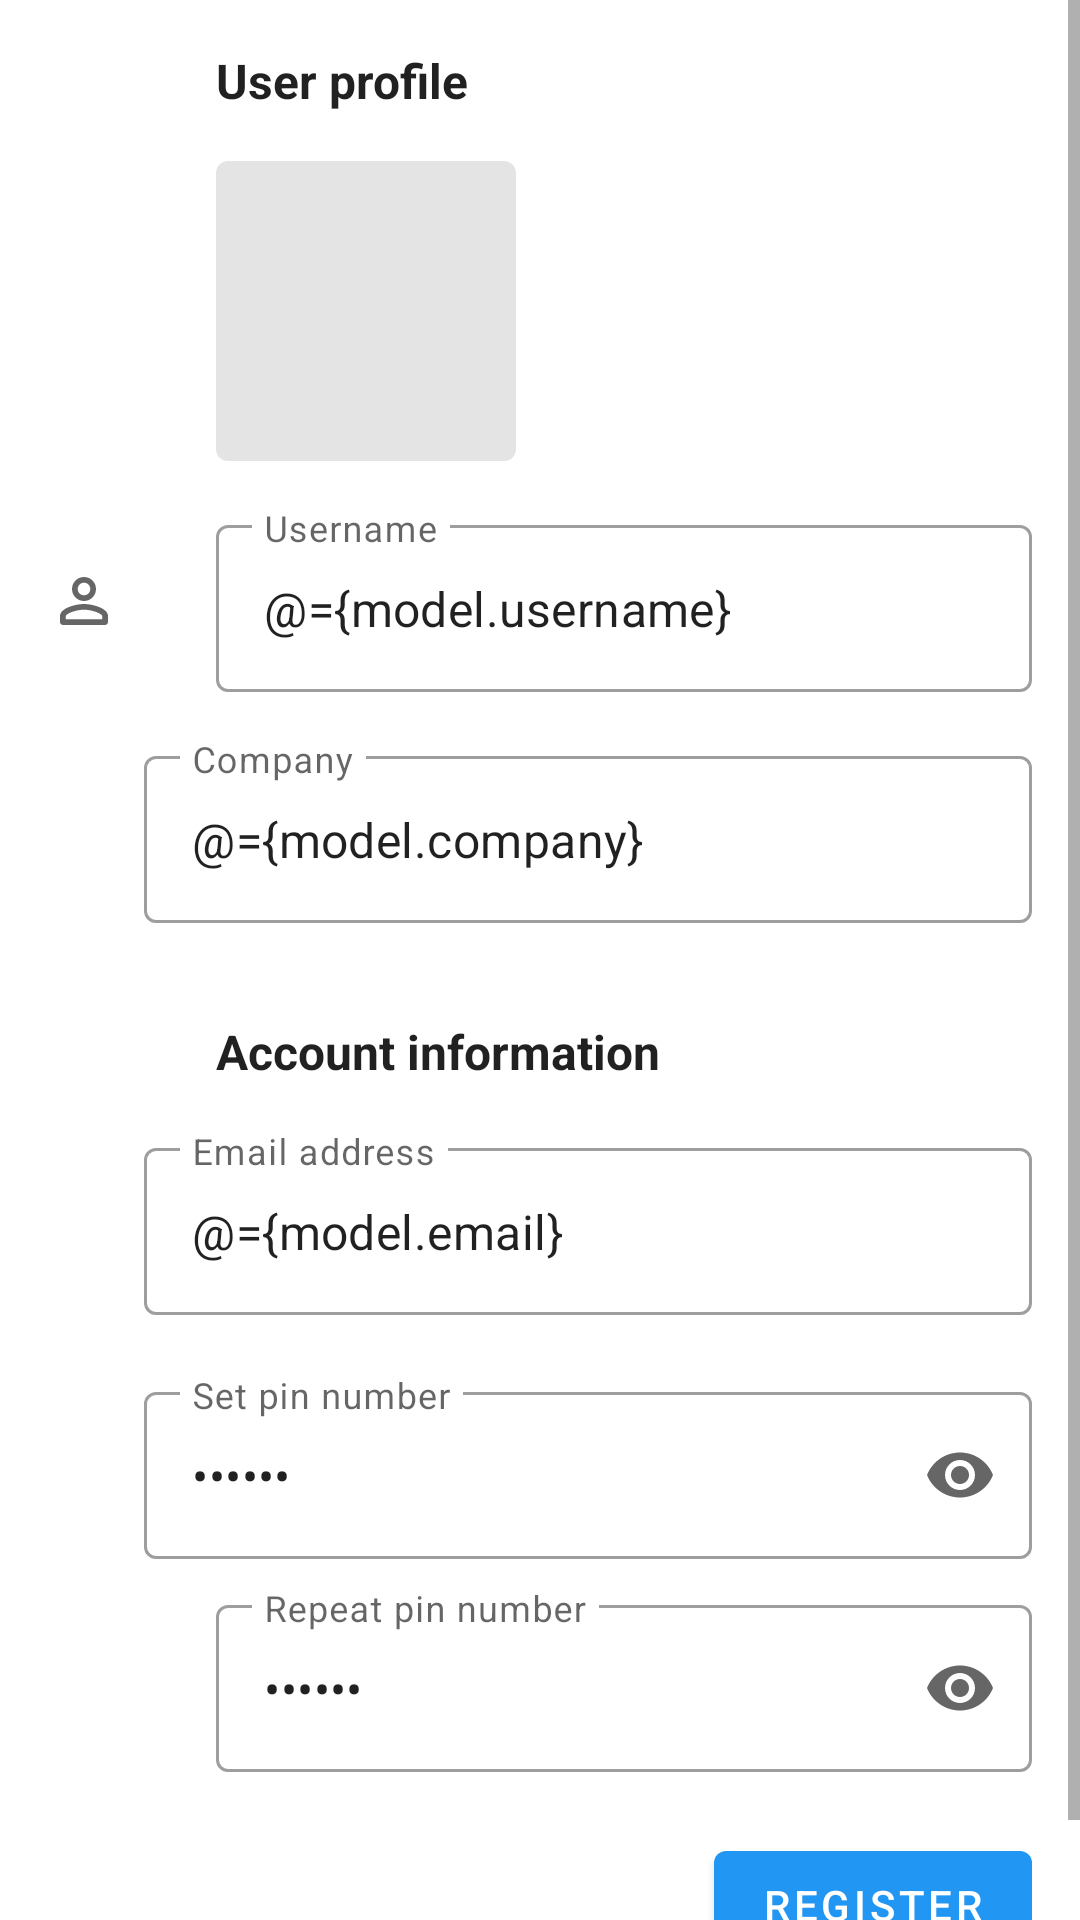

Icons on this 1080px×1920px Android screen, each with the point to tap as [x,y]:
person: [84,601]
